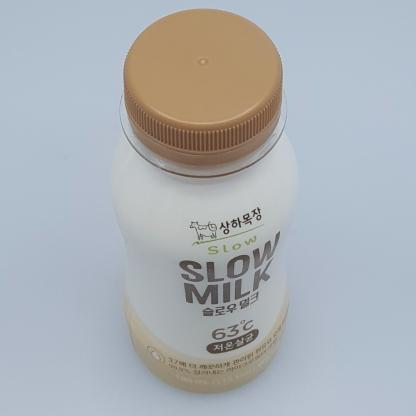----------180ML: (109, 8, 299, 394)
